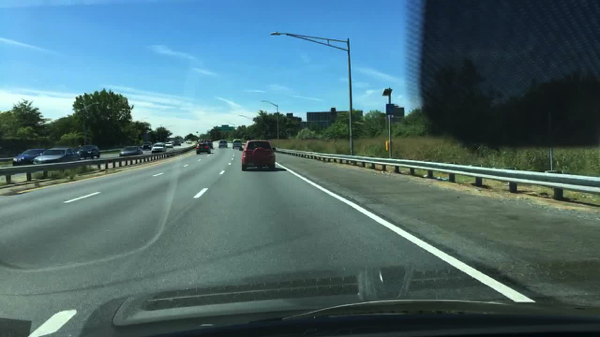car: (240, 139, 276, 170), (33, 148, 79, 165), (12, 147, 47, 166), (78, 144, 101, 160), (119, 145, 143, 156), (195, 142, 212, 155), (151, 141, 166, 153), (232, 140, 242, 150), (218, 140, 228, 149), (142, 141, 152, 150), (174, 139, 181, 146), (206, 140, 212, 148), (165, 142, 173, 147), (169, 139, 175, 145), (186, 140, 191, 145), (178, 140, 184, 144), (200, 138, 204, 142), (204, 139, 206, 143)
traffic sign: (384, 103, 394, 115), (394, 107, 404, 118), (216, 127, 233, 131), (221, 125, 229, 127)
